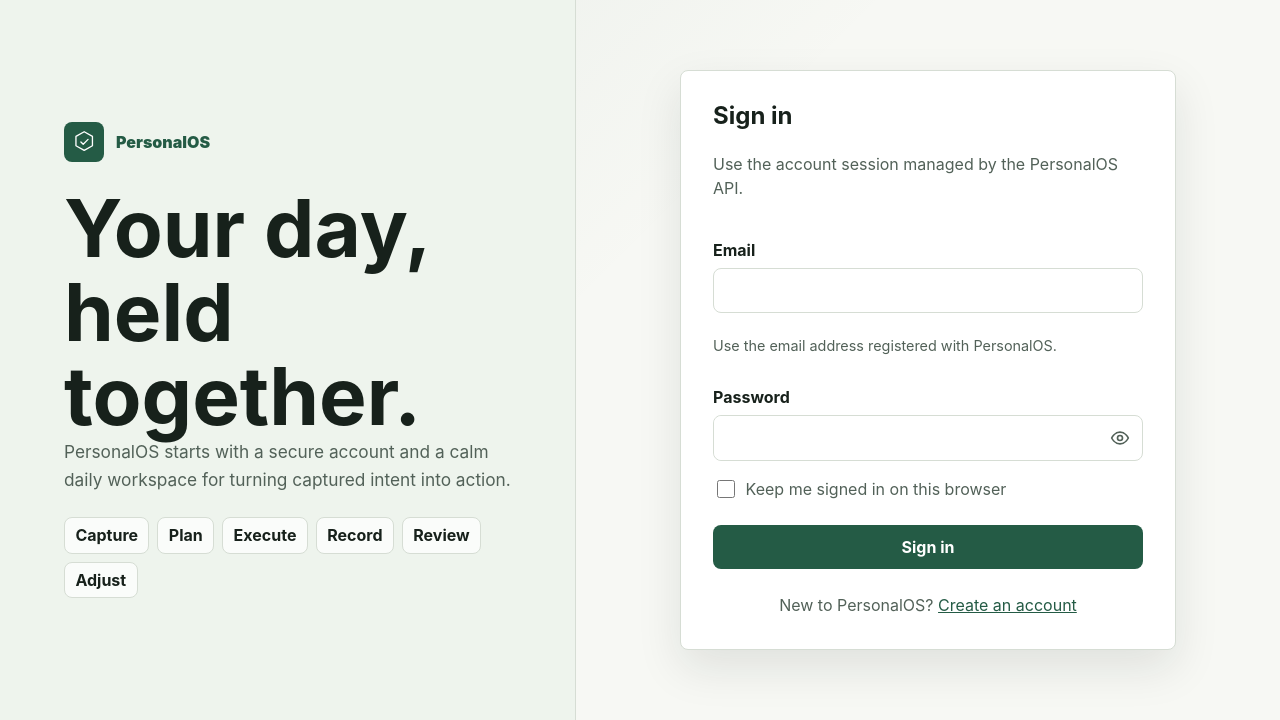
Test: LoginComponent › keeps login failure generic and clears the password field
The image size is (1280, 720).
Type "jefferson@example.com" into the field with id "login-email" at (928, 291), box [713,268,1143,314]
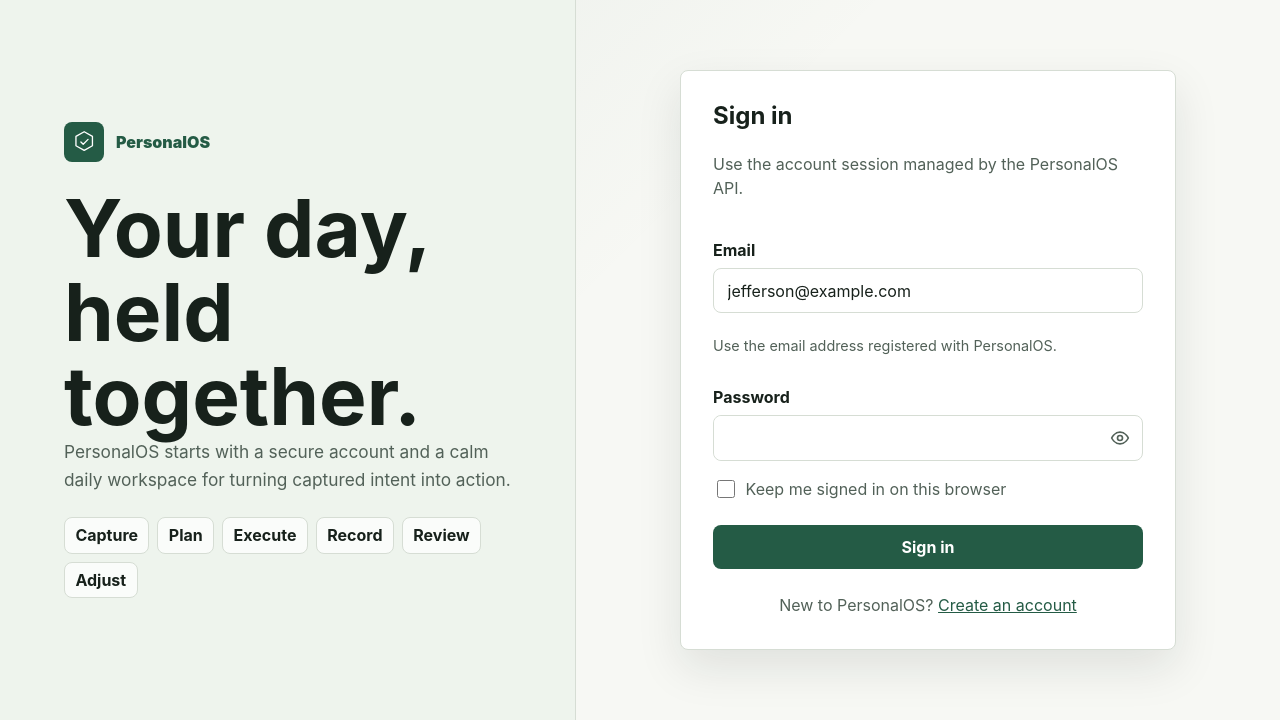
Type "Password123" into the password field with id "login-password" at (906, 438), box [714,416,1098,460]
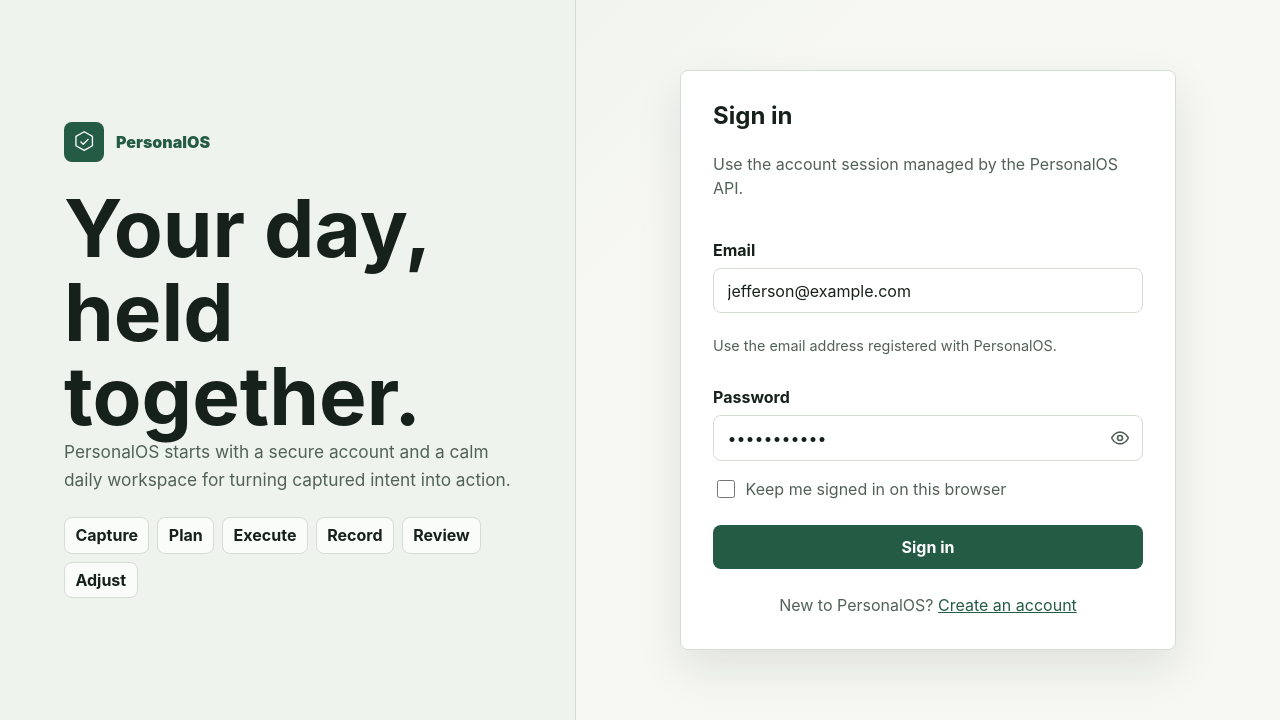
Submit the form, box [713,240,1143,569]
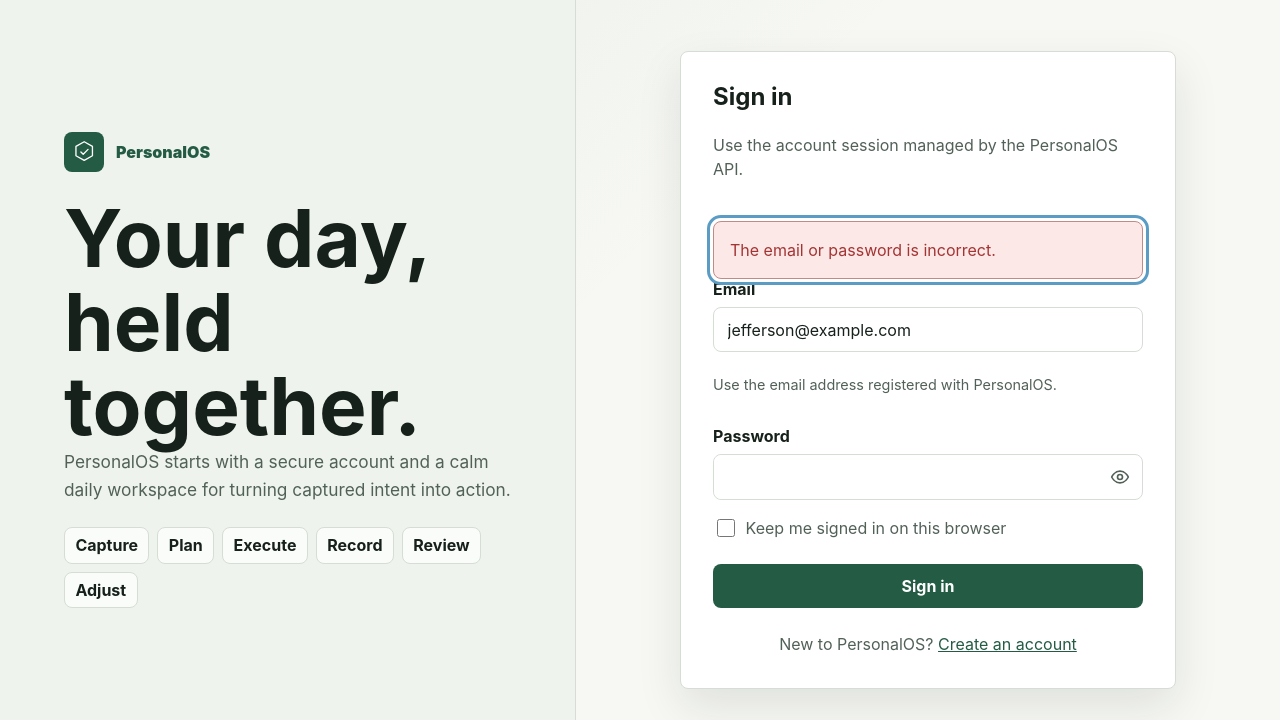
Now the text "The email or password is incorrect." is shown, box [713,221,1143,279]
Now the password field with id "login-password" is empty, box [714,455,1098,499]
